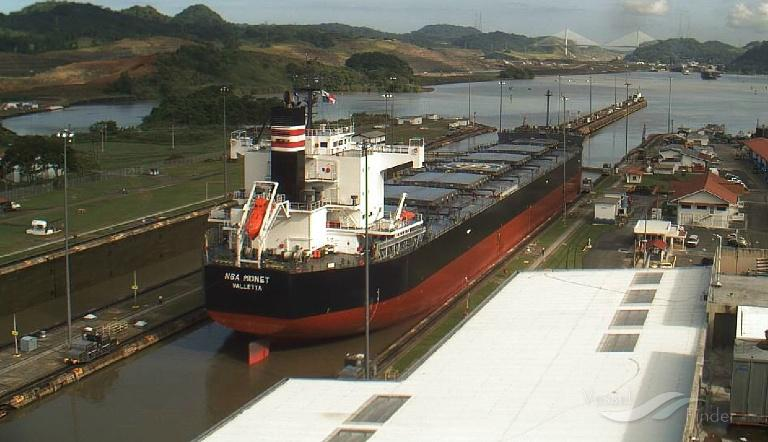OCR: (221, 268, 278, 298)
